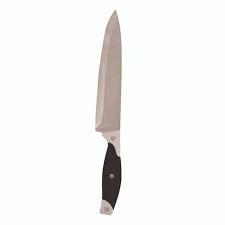Knife: (94, 9, 122, 215)
